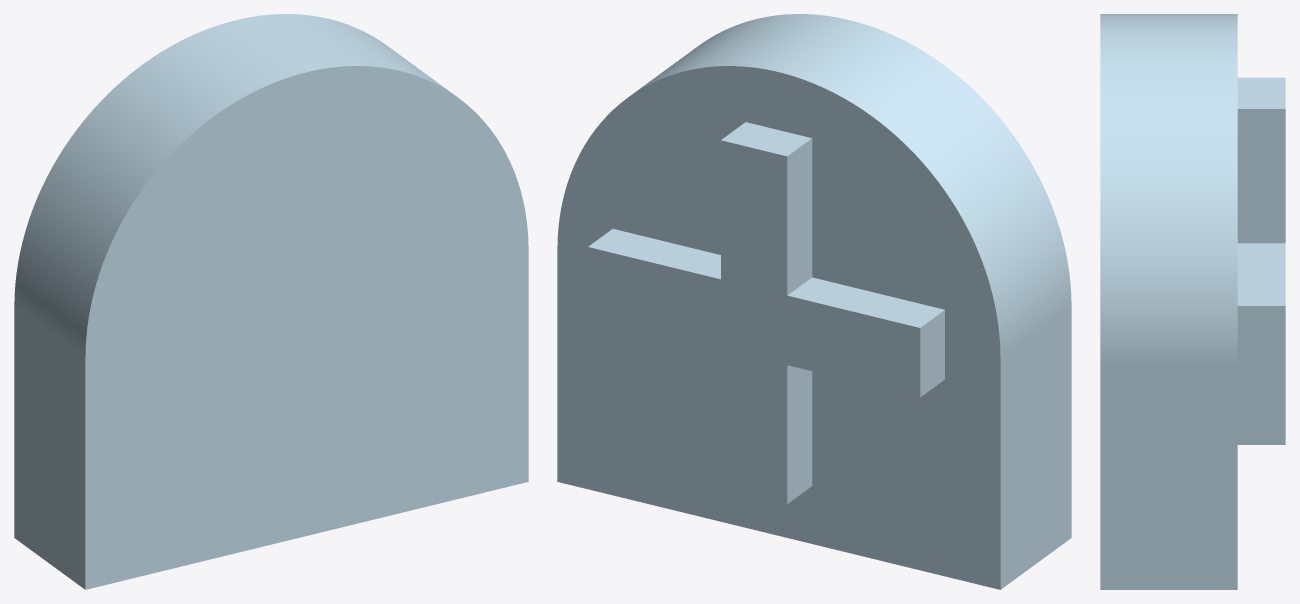
File: adder.fbx
3 renders of one model, left to right at view 1: azimuth 30°, elevation 25°; view 2: azimuth 150°, elevation 25°; view 3: azimuth 270°, elevation 25°, orthographic. The views are drawn at different scales.
Parts seen in each view (by area): view 1: Part 1; view 2: Part 1; view 3: Part 1.
Part boxes in pixels (box(x1,y1,x2,y2)): Part 1: box(14, 14, 528, 589); Part 1: box(557, 14, 1071, 589); Part 1: box(1100, 14, 1285, 589).
Size of the model in its own units: 90 by 89.99 by 33.75.
